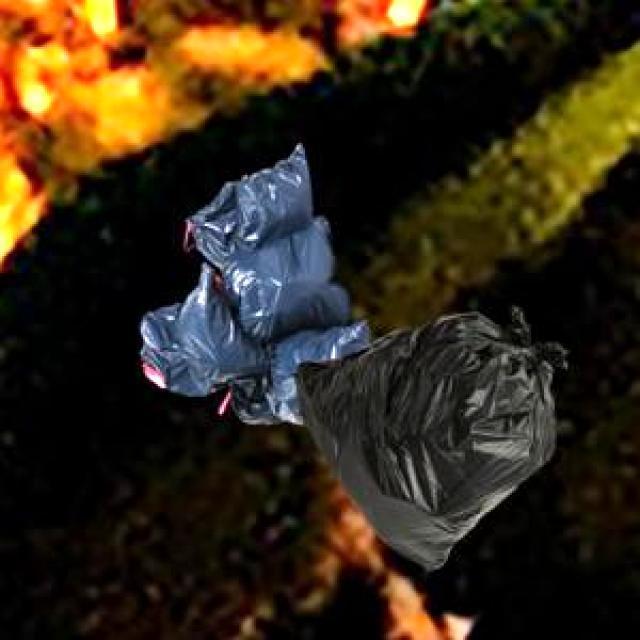Bolsa-de-nilon: (295, 307, 567, 578), (137, 142, 373, 427)
